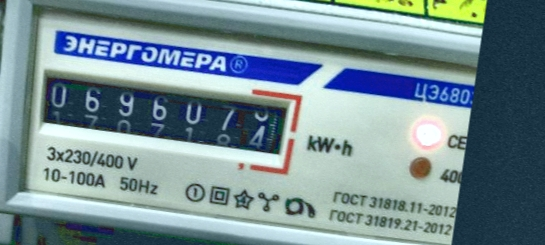0: (180, 97, 203, 130), (47, 82, 67, 112)
4: (245, 122, 266, 153)
6: (148, 93, 169, 125), (80, 86, 101, 116)
7: (214, 103, 237, 137)
9: (113, 90, 135, 121)
screen: (20, 55, 306, 178)
